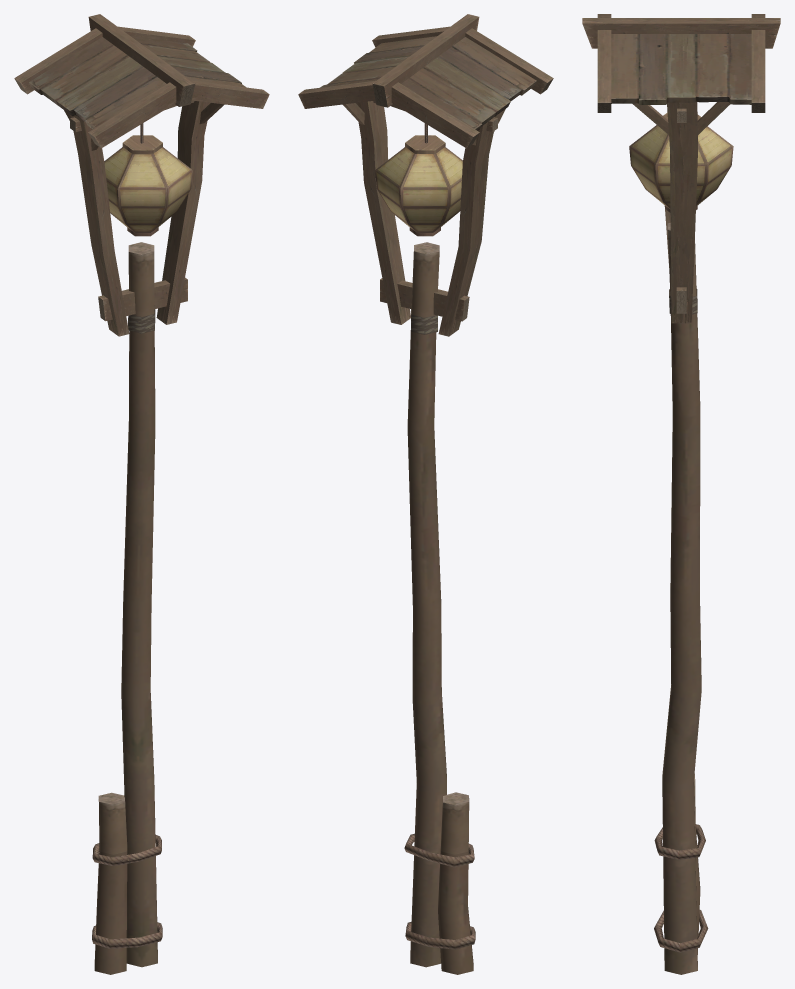
Rendered from Homeworld_Exterior_Dq_Lamp_Lightrigged_01_Vo.fbx.
The picture shows the model from 3 angles, left to right: view 1: azimuth 30°, elevation 25°; view 2: azimuth 150°, elevation 25°; view 3: azimuth 270°, elevation 25°; orthographic projection. The views are drawn at different scales.
Visible parts, largest first — view 1: Area_Dq_Light_Common_Woodlamp_01_Lightrigged_Vo; view 2: Area_Dq_Light_Common_Woodlamp_01_Lightrigged_Vo; view 3: Area_Dq_Light_Common_Woodlamp_01_Lightrigged_Vo.
Part boxes in pixels (box(x1,y1,x2,y2)): Area_Dq_Light_Common_Woodlamp_01_Lightrigged_Vo: box(14, 14, 269, 974); Area_Dq_Light_Common_Woodlamp_01_Lightrigged_Vo: box(298, 14, 553, 974); Area_Dq_Light_Common_Woodlamp_01_Lightrigged_Vo: box(582, 14, 780, 974).
Size of the model in its own units: 0.8842 by 4.39 by 0.8325.
